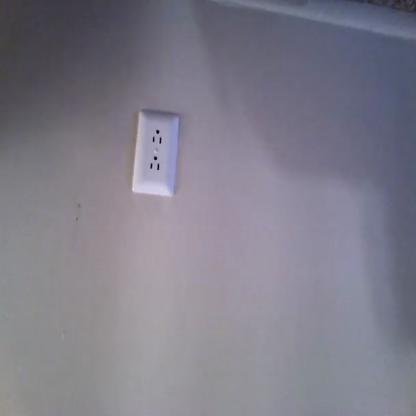OUTLET: (130, 114, 180, 192)
